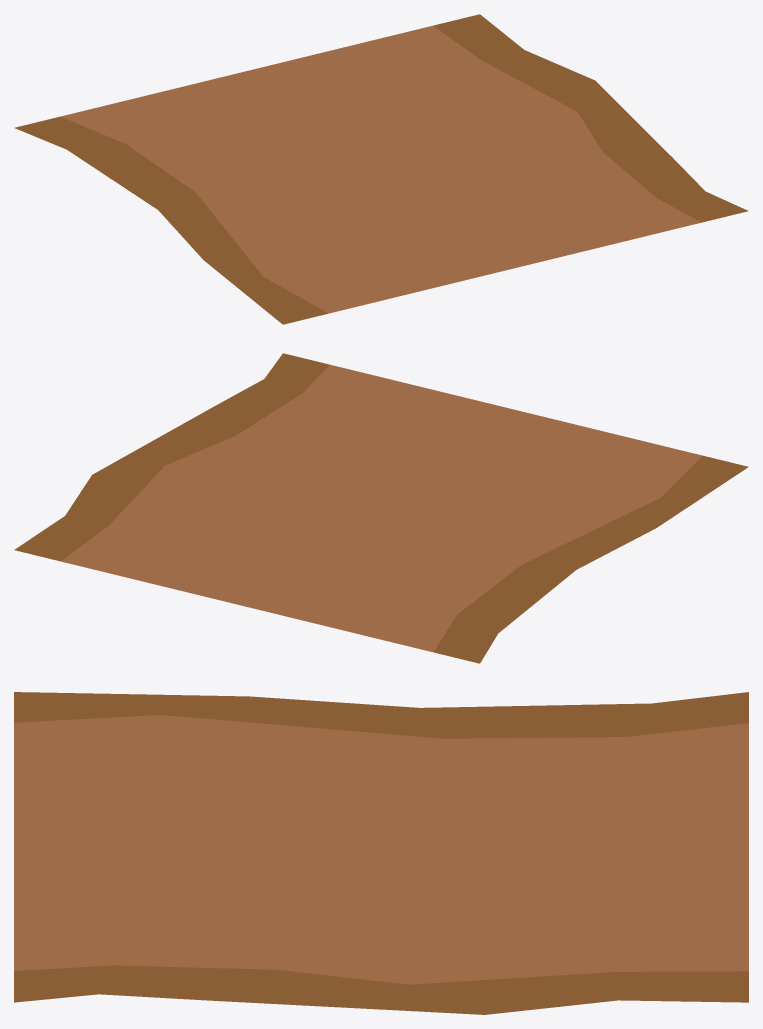
The model's file is dirt_road_short.fbx.
3 renders of one model, top to bottom at view 1: azimuth 30°, elevation 25°; view 2: azimuth 150°, elevation 25°; view 3: azimuth 270°, elevation 25°, orthographic. The views are drawn at different scales.
Visible parts, largest first — view 1: dirt_road_short; view 2: dirt_road_short; view 3: dirt_road_short.
Boxes of the visible parts, bbox=[...] form: dirt_road_short: bbox=[14, 14, 748, 324]; dirt_road_short: bbox=[14, 353, 748, 663]; dirt_road_short: bbox=[14, 692, 748, 1014].
Bounding box in the file's own units: 104 × 1.63e-05 × 100.
